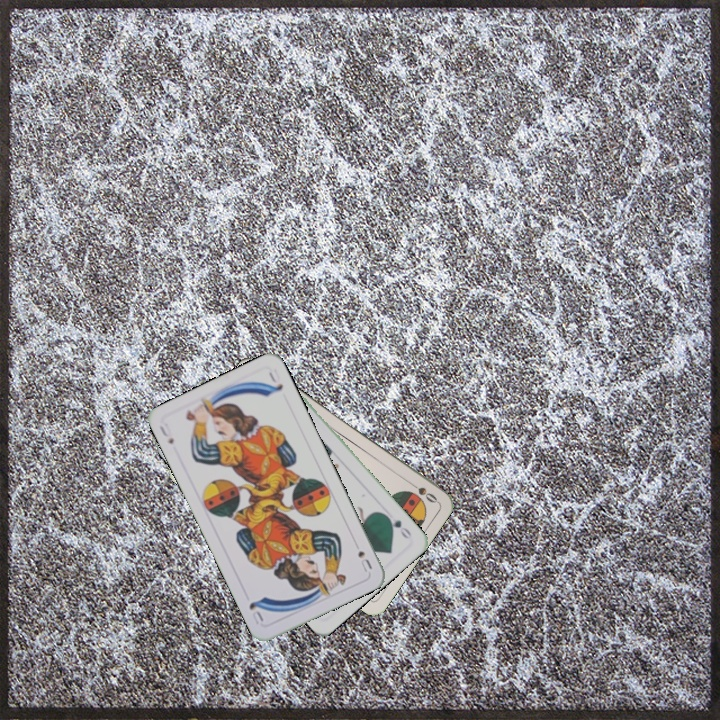GO: (381, 511, 414, 542)
SO: (404, 477, 440, 506)
SU: (354, 547, 375, 575), (155, 421, 176, 447)
